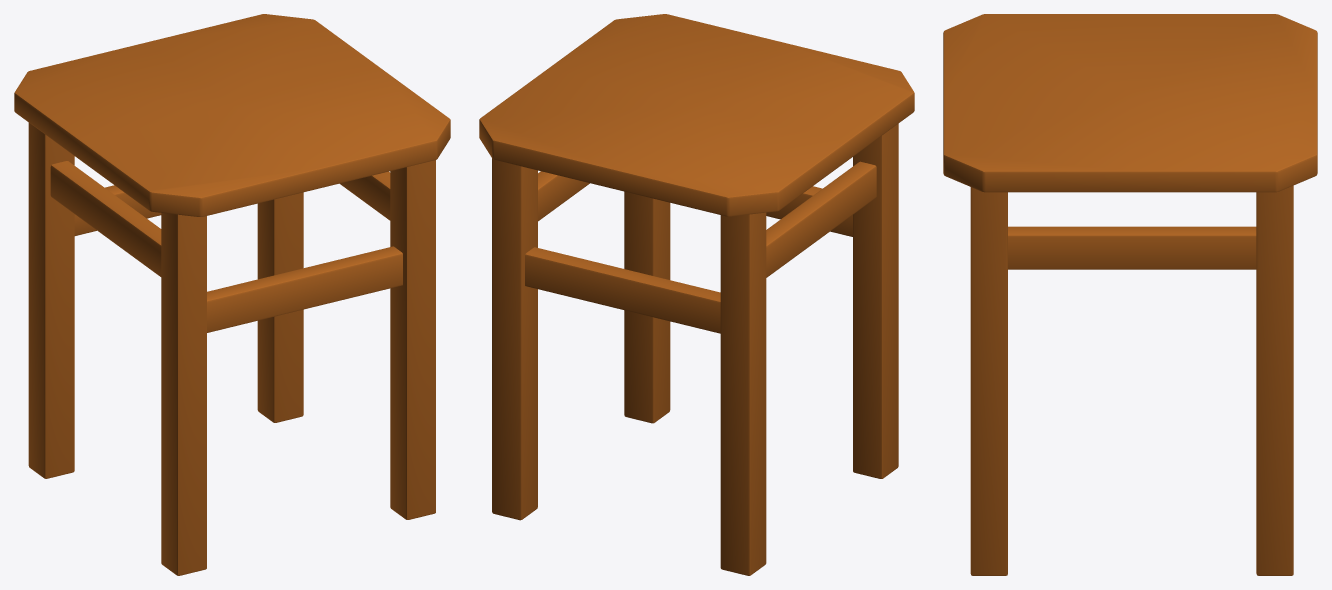
3 renders of one model, left to right at view 1: azimuth 30°, elevation 25°; view 2: azimuth 150°, elevation 25°; view 3: azimuth 270°, elevation 25°, orthographic. The views are drawn at different scales.
Parts seen in each view (by area): view 1: Stool; view 2: Stool; view 3: Stool.
Boxes of the visible parts, <box> form: Stool: <box>14,14,450,575</box>; Stool: <box>479,14,914,575</box>; Stool: <box>943,14,1317,575</box>.
Size of the model in its own units: 1.69 by 2.07 by 1.69.
